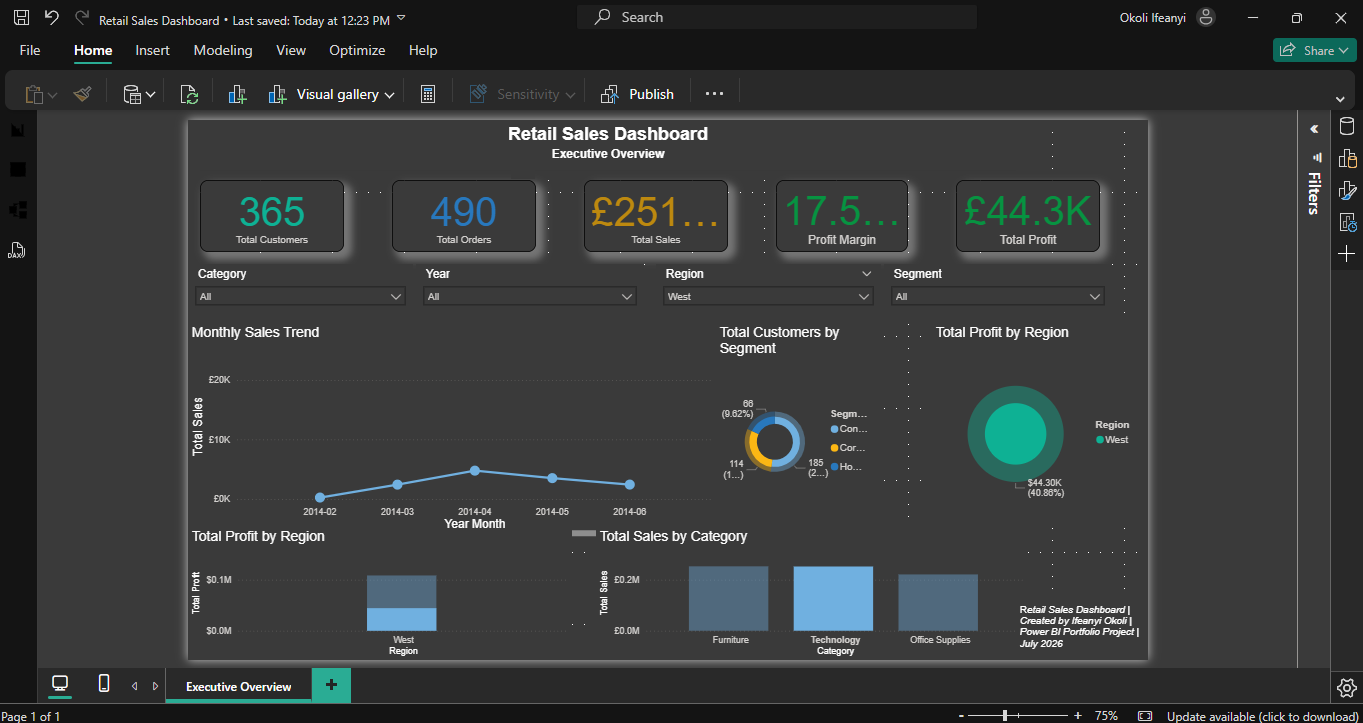

The page's visual inventory and layout, read from the dashboard file:
{"tool":"powerbi","page":{"name":"Executive Overview","canvas":[1280,720],"ordinal":0},"visuals":[{"type":"textbox","box":[16,0,1088,56],"z":0},{"type":"textbox","box":[16,32,1088,35],"z":1000},{"type":"card","fields":{"Values":["Measure Table.Total Customers"]},"box":[16,80,192,96],"z":2000},{"type":"card","fields":{"Values":["Measure Table.Total Orders"]},"box":[272,80,192,96],"z":3000},{"type":"card","fields":{"Values":["Measure Table.Profit Margin"]},"box":[784,80,176,96],"z":4000},{"type":"card","fields":{"Values":["Measure Table.Total Sales"]},"box":[528,80,192,96],"z":5000},{"type":"card","fields":{"Values":["Measure Table.Total Profit"]},"box":[1024,80,192,96],"z":6000},{"type":"lineChart","title":"Monthly Sales Trend","fields":{"Category":["Calendar.Year Month"],"Y":["Measure Table.Total Sales"]},"box":[0,272,704,288],"z":7000},{"type":"clusteredColumnChart","fields":{"Y":["Measure Table.Total Sales"],"Category":["sales.Category"]},"box":[544,544,576,176],"z":8000},{"type":"slicer","fields":{"Values":["Calendar.Year"]},"box":[304,192,304,80],"z":9000},{"type":"slicer","fields":{"Values":["sales.Region"]},"box":[624,192,300,80],"z":10000},{"type":"slicer","fields":{"Values":["sales.Segment"]},"box":[928,192,304,80],"z":11000},{"type":"slicer","fields":{"Values":["sales.Category"]},"box":[0,192,300,80],"z":12000},{"type":"clusteredColumnChart","fields":{"Category":["sales.Region"],"Y":["Measure Table.Total Profit"]},"box":[0,544,512,176],"z":13000},{"type":"textbox","box":[1104,640,176,80],"z":13001},{"type":"donutChart","fields":{"Category":["sales.Segment"],"Y":["Measure Table.Total Customers"]},"box":[704,272,220,272],"z":13002},{"type":"pieChart","fields":{"Category":["sales.Region"],"Y":["Measure Table.Total Profit"]},"box":[992,272,288,272],"z":13003}]}

Visuals, with their boxes on the page's 1280x720 design canvas (x1, y1, x2, y2). These are canvas units, not pixel positions in the 1363x723 screenshot, which may show the page scaled, cropped or inside an application window:
textbox: 16 0 1104 56
textbox: 16 32 1104 67
card - Measure Table.Total Customers: 16 80 208 176
card - Measure Table.Total Orders: 272 80 464 176
card - Measure Table.Profit Margin: 784 80 960 176
card - Measure Table.Total Sales: 528 80 720 176
card - Measure Table.Total Profit: 1024 80 1216 176
"Monthly Sales Trend" lineChart: 0 272 704 560
clusteredColumnChart - Measure Table.Total Sales x sales.Category: 544 544 1120 720
slicer - Calendar.Year: 304 192 608 272
slicer - sales.Region: 624 192 924 272
slicer - sales.Segment: 928 192 1232 272
slicer - sales.Category: 0 192 300 272
clusteredColumnChart - sales.Region x Measure Table.Total Profit: 0 544 512 720
textbox: 1104 640 1280 720
donutChart - sales.Segment x Measure Table.Total Customers: 704 272 924 544
pieChart - sales.Region x Measure Table.Total Profit: 992 272 1280 544
